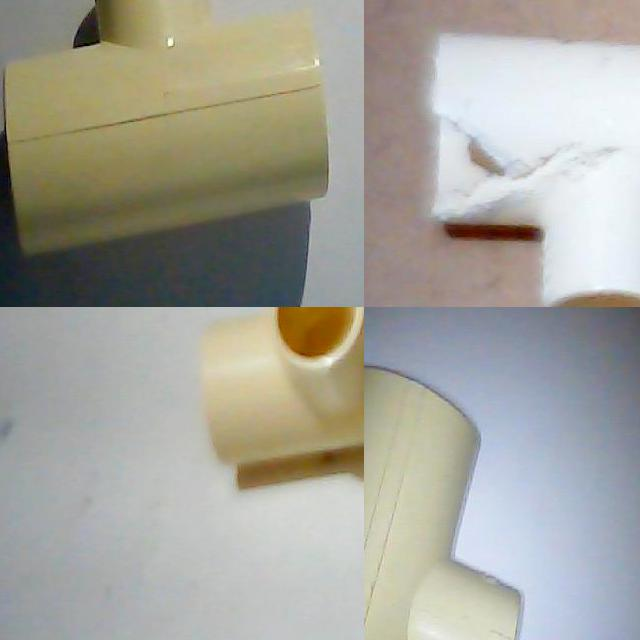Defective: (426, 78, 562, 225)
T Joint: (3, 0, 329, 259), (427, 32, 640, 307), (364, 365, 525, 640), (203, 307, 364, 464)
